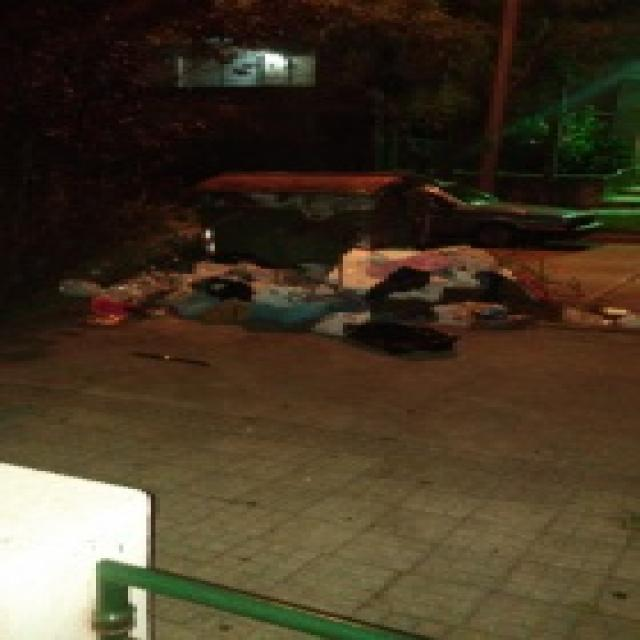garbage: (96, 246, 480, 340)
